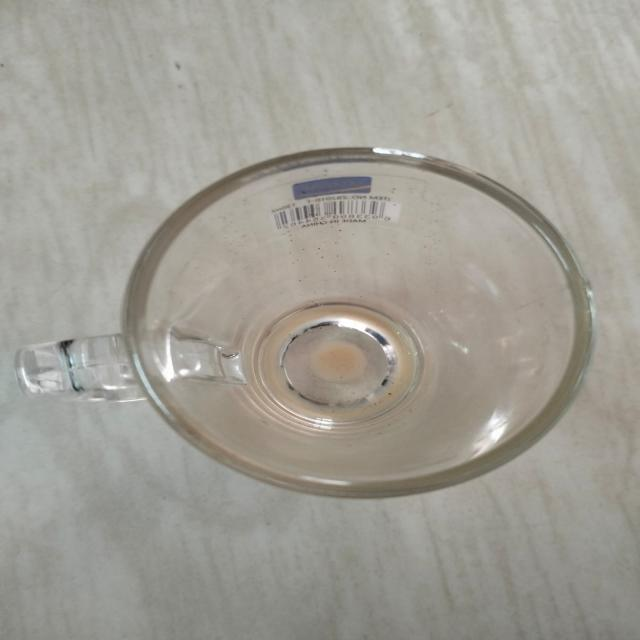glass-VX4N: (16, 148, 593, 503)
